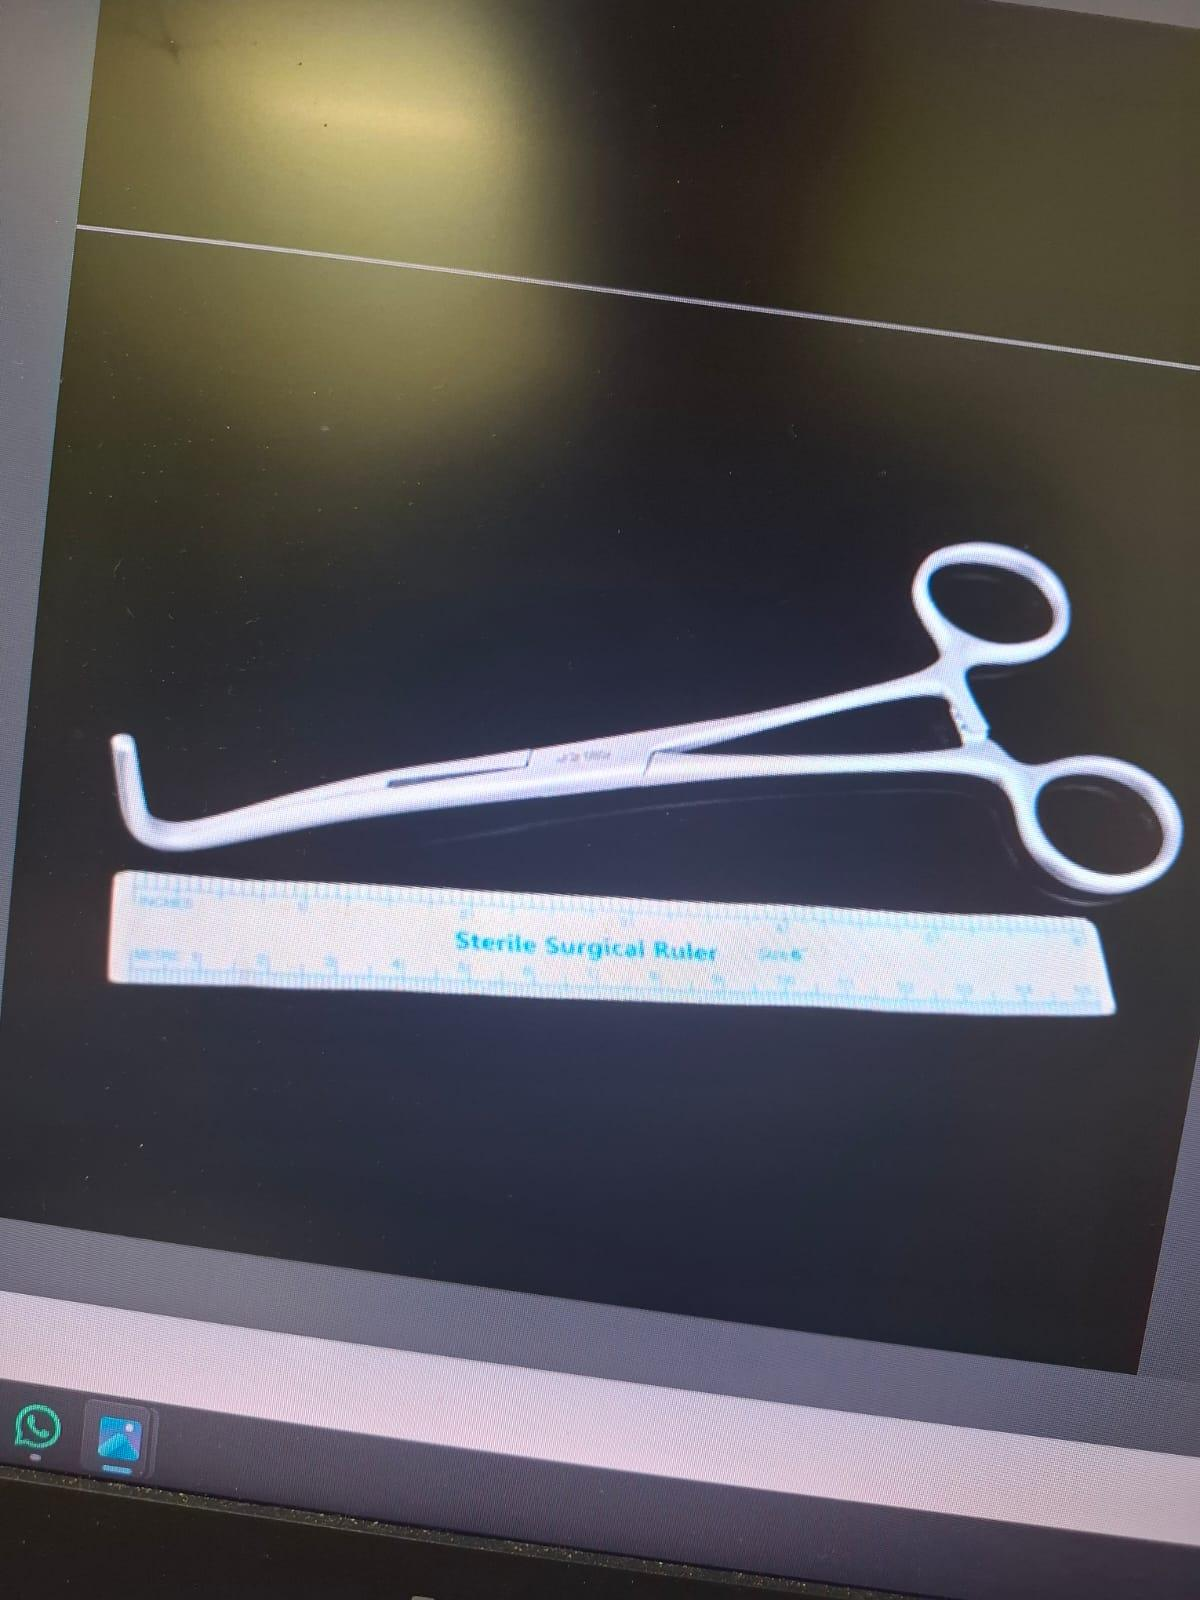Rectangle Cholecystectomy Forceps: (102, 528, 1200, 920)
